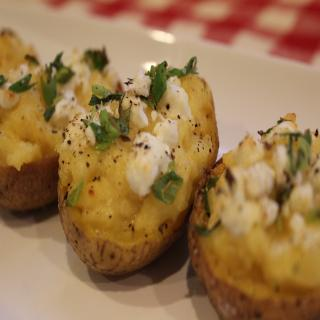Potato: (46, 65, 220, 287), (187, 111, 320, 320), (0, 44, 123, 209), (0, 28, 35, 74)
